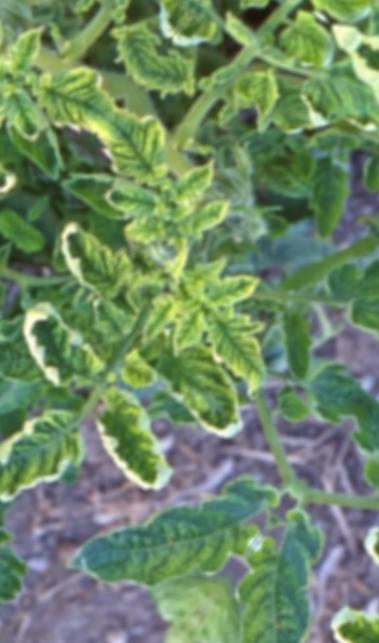Tomato leaf yellow virus: (0, 362, 99, 574), (71, 374, 206, 504), (81, 94, 195, 205), (182, 297, 295, 405), (0, 297, 110, 402), (42, 213, 142, 307), (264, 0, 352, 85), (134, 40, 208, 116), (157, 300, 222, 367)
